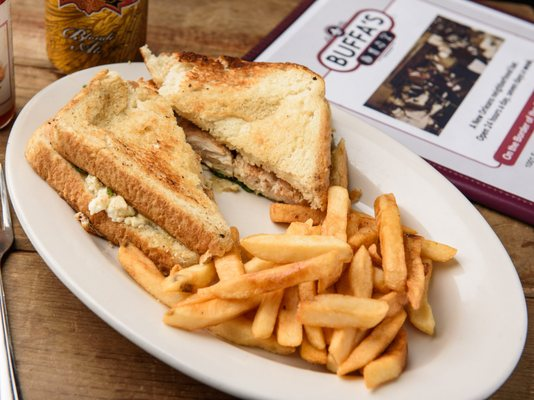pizza: (43, 0, 149, 75), (0, 0, 17, 132)
soup: (26, 66, 238, 302), (139, 46, 347, 229)
